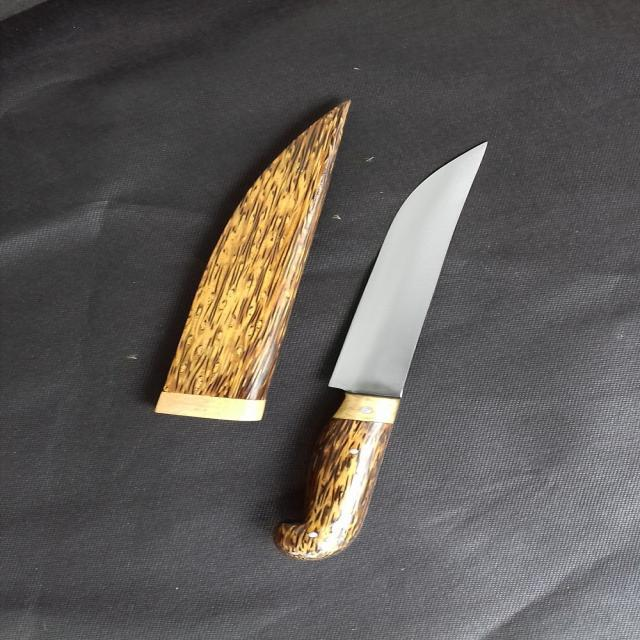Pisau: (277, 133, 493, 557)
